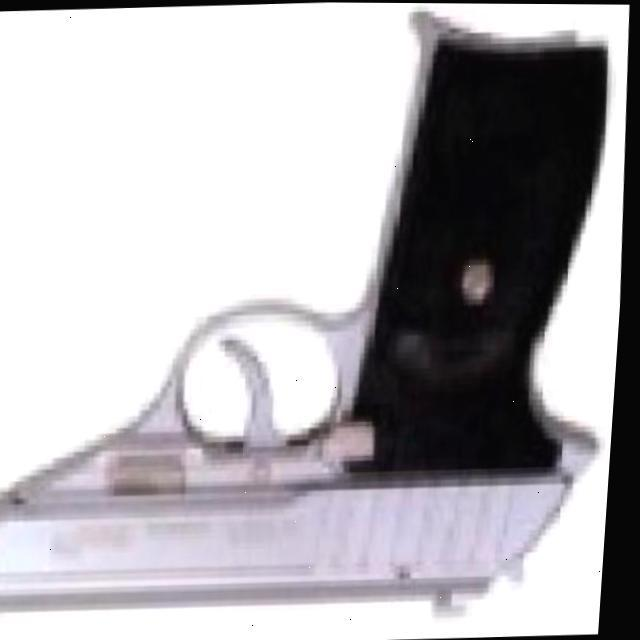gun: (0, 0, 634, 630)
